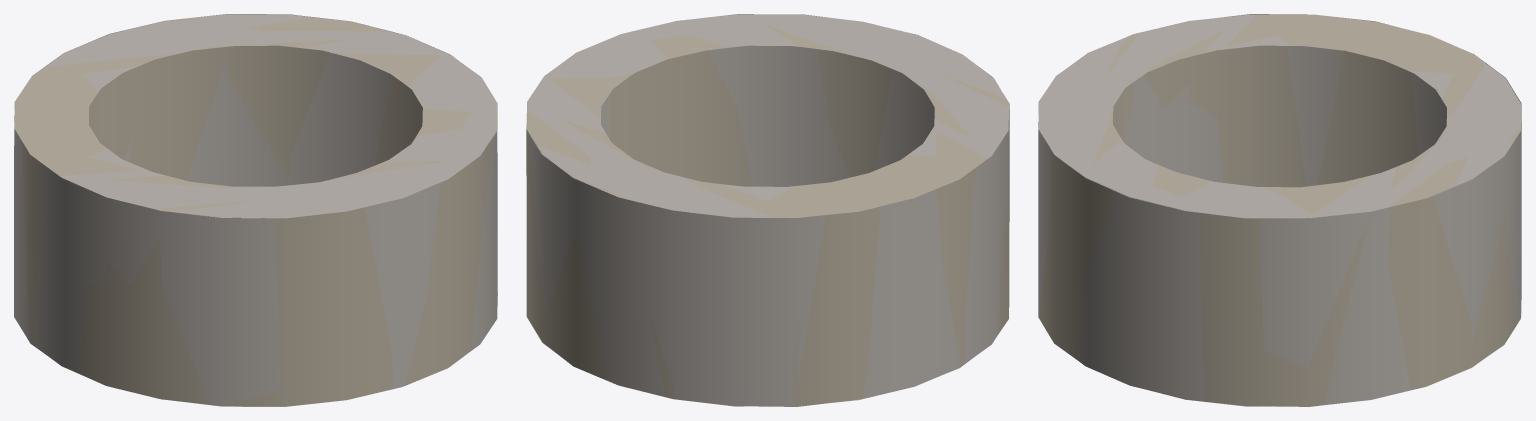
The model's file is original_6.obj.
The picture shows the model from 3 angles, left to right: view 1: azimuth 30°, elevation 25°; view 2: azimuth 150°, elevation 25°; view 3: azimuth 270°, elevation 25°; orthographic projection.
Visible parts, largest first — view 1: #ID215; view 2: #ID215; view 3: #ID215.
Part boxes in pixels (bbox=[...]): #ID215: bbox=[14, 14, 497, 406]; #ID215: bbox=[526, 14, 1009, 406]; #ID215: bbox=[1038, 14, 1521, 406].
Size of the model in its own units: 0.1682 by 0.0726 by 0.1682.
